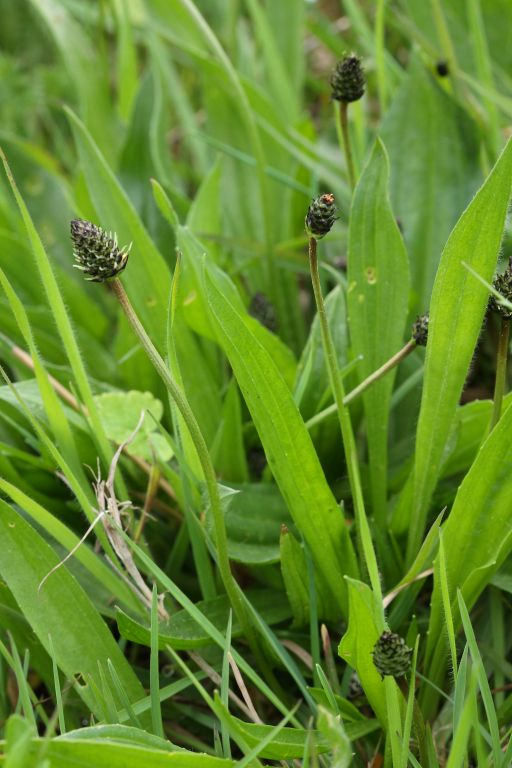buckhorn plantain: (58, 51, 512, 740)
